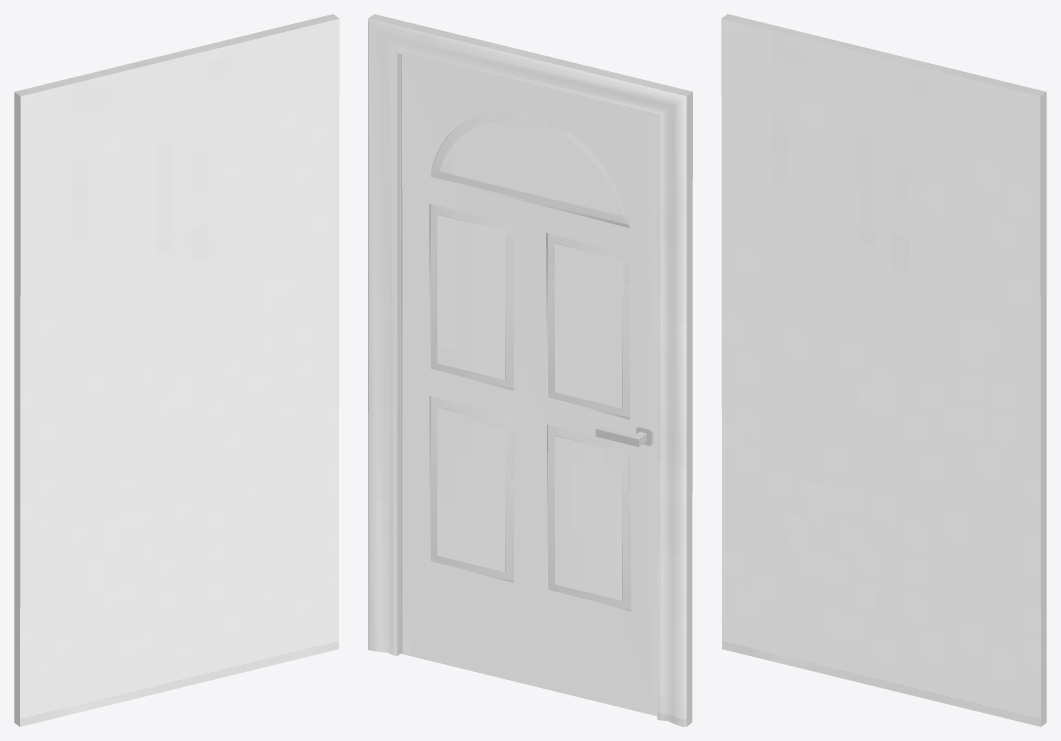
The model's file is DoorFourPanelHalfMoonSnapToWall.glb.
3 views of the same model, side by side, from view 1: azimuth 30°, elevation 25°; view 2: azimuth 150°, elevation 25°; view 3: azimuth 330°, elevation 25° (orthographic).
Visible parts, largest first — view 1: DoorFourPanelHalfMoonSnapToWall; view 2: DoorFourPanelHalfMoonSnapToWall; view 3: DoorFourPanelHalfMoonSnapToWall.
Part boxes in pixels (x1,y1,x2,y2): DoorFourPanelHalfMoonSnapToWall: [14, 14, 339, 726]; DoorFourPanelHalfMoonSnapToWall: [368, 14, 692, 726]; DoorFourPanelHalfMoonSnapToWall: [721, 14, 1046, 726].
Bounding box in the file's own units: 1.12 × 2.13 × 0.0835.
Materials: 1 (1 with a texture image).
